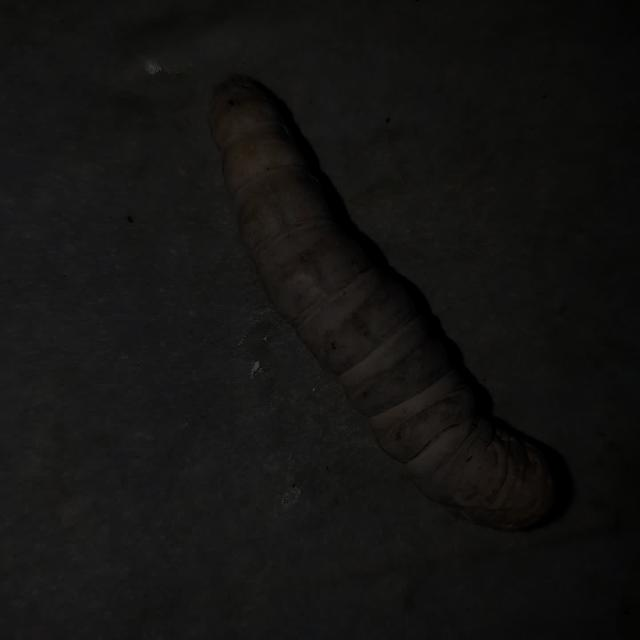Grasserie: (179, 46, 597, 564)
